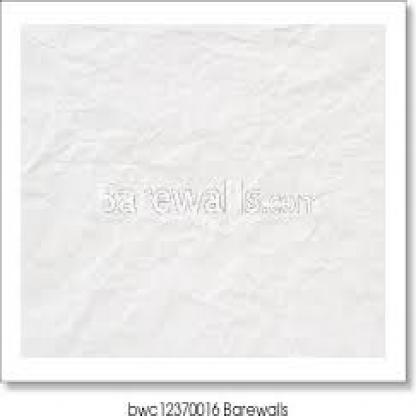paper: (19, 20, 385, 360)
